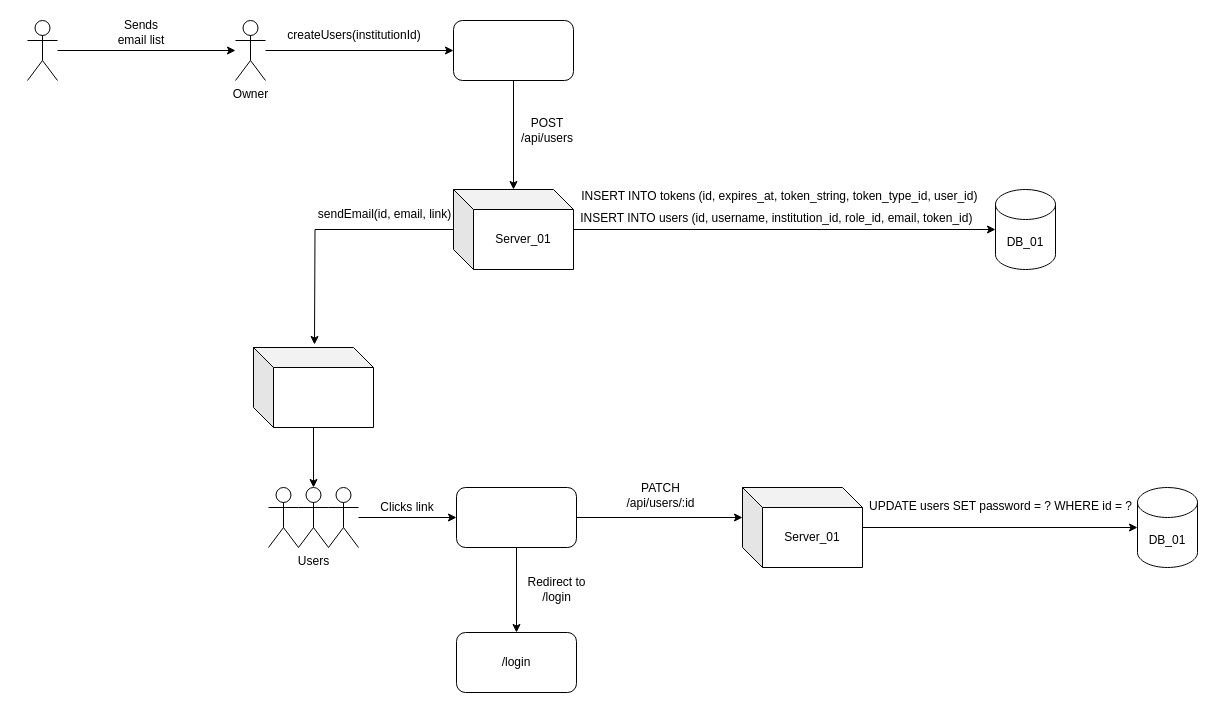
Some shapes in this 1215 by 710 pixel diagram are drawn without their labels. The centre of each missing label's shape, as x and y in pixels:
"/management" goes at [513,50].
"/verify" goes at [516,517].
"Institution" goes at [42,50].
"SMTP Server" goes at [313,387].
